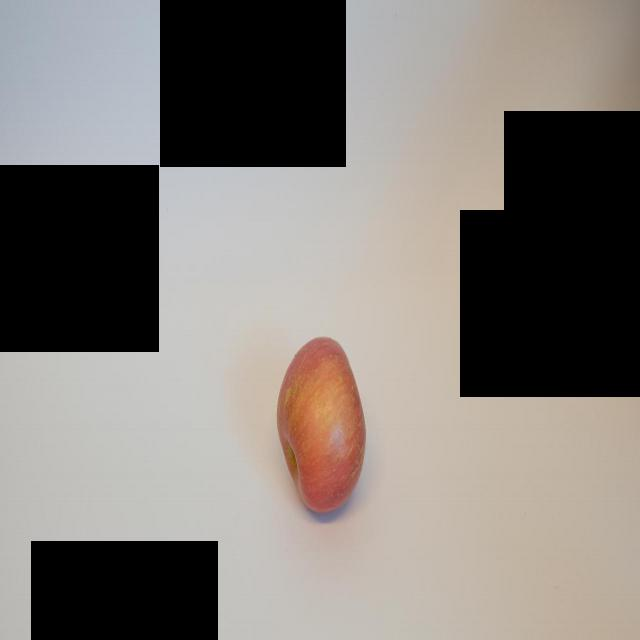apple: (280, 337, 368, 522)
